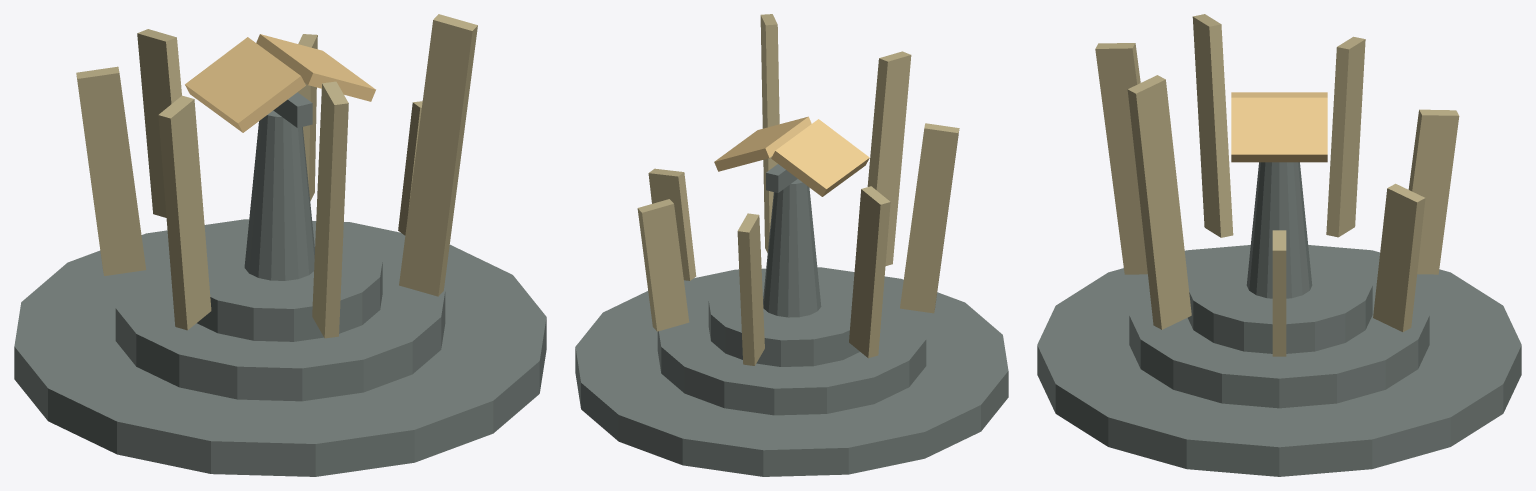
Rendered from wilayah-m13-buku-besar.glb.
The picture shows the model from 3 angles, left to right: view 1: azimuth 30°, elevation 25°; view 2: azimuth 150°, elevation 25°; view 3: azimuth 270°, elevation 25°; orthographic projection. The views are drawn at different scales.
Parts seen in each view (by area): view 1: m13_tier_1, m13_tier_2, m13_stele_7, m13_tier_3, m13_mimbar, m13_stele_4, m13_stele_5, m13_stele_6, m13_halaman_kiri, m13_stele_3, m13_halaman_kanan, m13_stele_2 (+2 smaller); view 2: m13_tier_1, m13_tier_2, m13_tier_3, m13_stele_5, m13_mimbar, m13_stele_6, m13_stele_4, m13_stele_2, m13_halaman_kiri, m13_stele_3, m13_stele_7, m13_stele_1 (+2 smaller); view 3: m13_tier_1, m13_tier_2, m13_tier_3, m13_stele_7, m13_stele_6, m13_mimbar, m13_halaman_kanan, m13_stele_5, m13_stele_4, m13_stele_2, m13_stele_3, m13_stele_1 (+1 smaller).
Part boxes in pixels (bbox=[...]): m13_tier_1: bbox=[14, 219, 546, 476]; m13_tier_2: bbox=[115, 238, 445, 401]; m13_stele_7: bbox=[399, 14, 477, 296]; m13_tier_3: bbox=[197, 225, 382, 341]; m13_mimbar: bbox=[244, 110, 314, 280]; m13_stele_4: bbox=[76, 66, 146, 275]; m13_stele_5: bbox=[158, 95, 211, 330]; m13_stele_6: bbox=[312, 81, 348, 338]; m13_halaman_kiri: bbox=[185, 37, 305, 132]; m13_stele_3: bbox=[137, 29, 181, 217]; m13_halaman_kanan: bbox=[256, 34, 375, 101]; m13_stele_2: bbox=[298, 34, 317, 200]; m13_tier_1: bbox=[575, 267, 1008, 476]; m13_tier_2: bbox=[657, 281, 926, 415]; m13_tier_3: bbox=[708, 272, 859, 366]; m13_stele_5: bbox=[900, 123, 959, 313]; m13_mimbar: bbox=[763, 179, 821, 317]; m13_stele_6: bbox=[867, 51, 911, 265]; m13_stele_4: bbox=[849, 186, 890, 358]; m13_stele_2: bbox=[637, 199, 689, 331]; m13_halaman_kiri: bbox=[771, 119, 869, 196]; m13_stele_3: bbox=[737, 213, 764, 365]; m13_stele_7: bbox=[760, 14, 779, 252]; m13_stele_1: bbox=[648, 168, 696, 280]; m13_tier_1: bbox=[1037, 245, 1521, 476]; m13_tier_2: bbox=[1129, 260, 1429, 408]; m13_tier_3: bbox=[1188, 248, 1372, 353]; m13_stele_7: bbox=[1127, 75, 1191, 329]; m13_stele_6: bbox=[1095, 43, 1147, 274]; m13_mimbar: bbox=[1246, 162, 1312, 298]; m13_halaman_kanan: bbox=[1231, 97, 1327, 162]; m13_stele_5: bbox=[1192, 14, 1233, 237]; m13_stele_4: bbox=[1326, 36, 1365, 237]; m13_stele_2: bbox=[1373, 183, 1425, 331]; m13_stele_3: bbox=[1408, 109, 1459, 274]; m13_stele_1: bbox=[1272, 230, 1286, 356].
Size of the model in its own units: 6.8 by 5.22 by 6.8.
